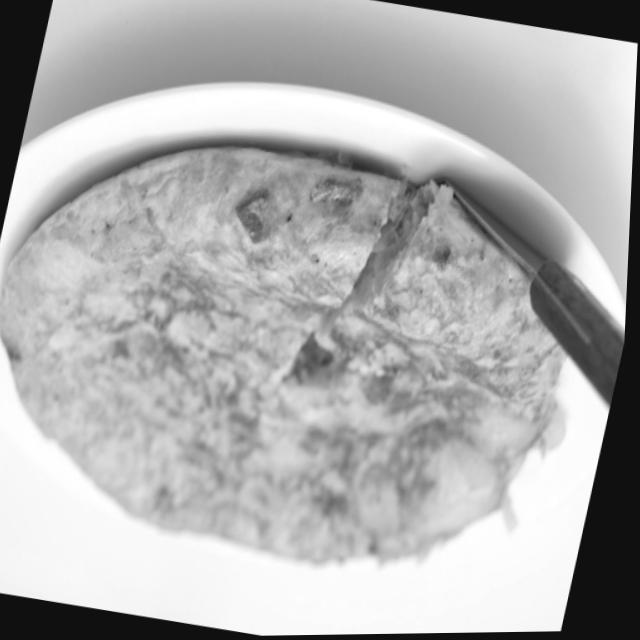面包点心: (0, 63, 619, 621)
